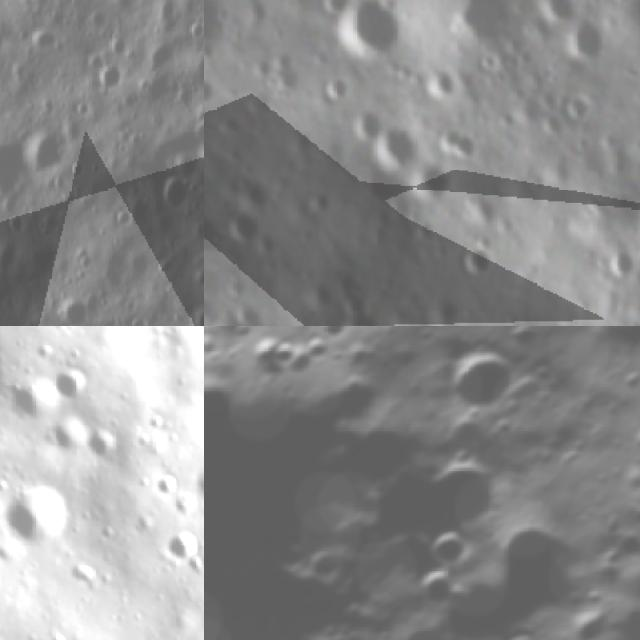crater: (204, 326, 514, 640), (426, 328, 530, 430), (4, 482, 81, 557), (239, 326, 311, 391), (329, 0, 403, 63), (401, 560, 462, 622), (412, 515, 471, 574), (295, 535, 350, 591), (3, 374, 62, 426), (21, 121, 69, 182), (437, 0, 508, 37), (0, 127, 31, 204), (158, 521, 204, 570), (368, 124, 418, 168), (561, 599, 614, 640), (407, 158, 453, 204), (156, 163, 196, 214), (494, 326, 548, 358), (55, 286, 97, 326), (568, 22, 606, 64), (87, 425, 125, 466), (456, 240, 494, 280), (55, 370, 93, 409), (306, 326, 360, 351), (92, 63, 128, 99), (348, 104, 384, 140), (226, 208, 260, 245), (604, 242, 637, 279), (562, 89, 596, 121), (28, 23, 63, 54), (211, 307, 268, 326), (533, 0, 576, 24), (488, 620, 539, 640), (179, 112, 204, 152), (626, 472, 640, 538), (319, 72, 350, 101), (204, 211, 223, 257), (339, 308, 380, 326), (317, 0, 352, 20), (184, 298, 204, 326), (0, 21, 11, 70), (495, 108, 517, 128), (204, 72, 216, 106)
